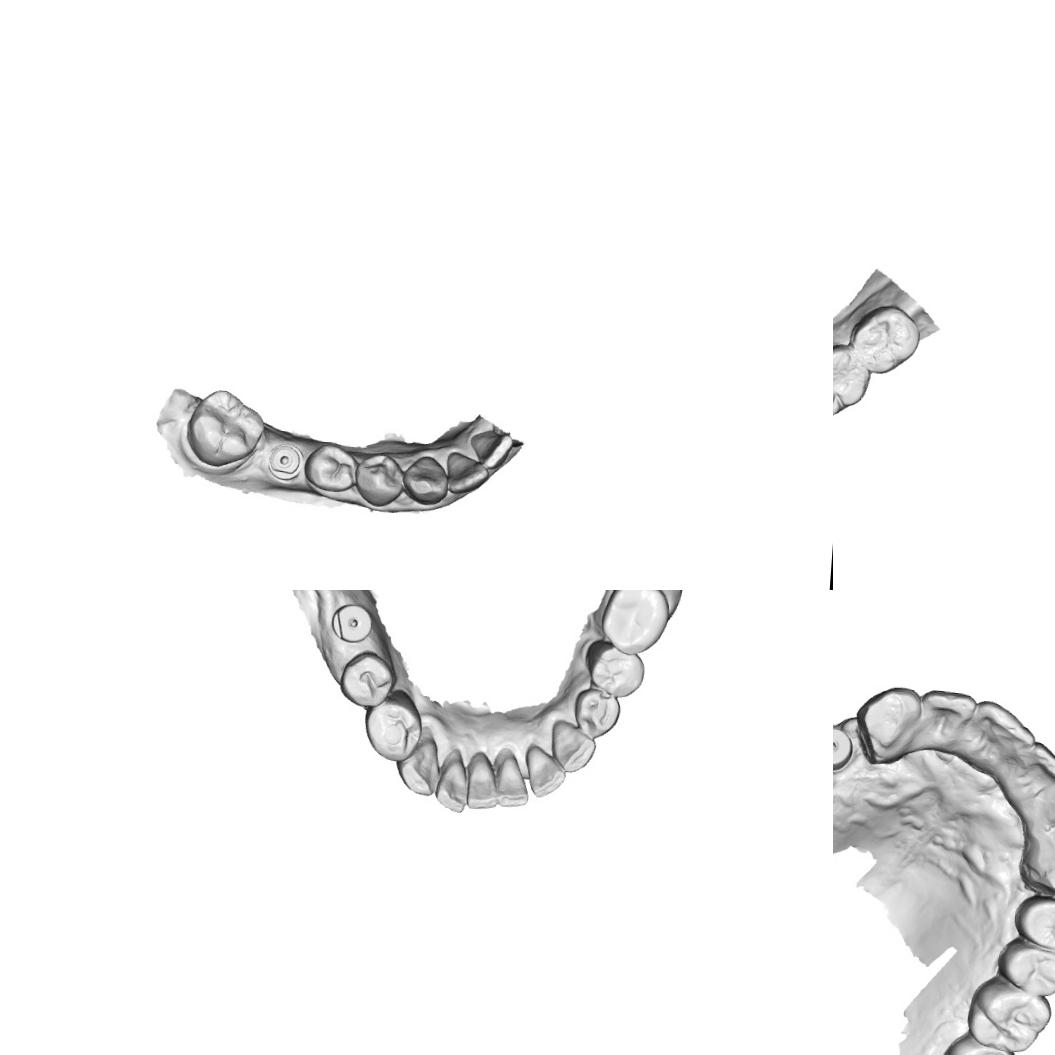canine: (855, 682, 926, 770), (392, 734, 442, 798), (399, 453, 450, 507), (548, 720, 596, 776), (1031, 840, 1055, 904)
implant: (327, 594, 380, 646), (264, 441, 304, 481), (833, 724, 852, 766)
incisor: (914, 686, 976, 766), (969, 698, 1038, 767), (522, 744, 568, 800), (1022, 739, 1055, 809), (442, 449, 491, 496), (464, 429, 514, 472), (464, 754, 501, 812), (434, 754, 469, 814), (494, 753, 532, 808)
molar: (184, 386, 267, 470), (966, 976, 1054, 1052), (847, 302, 923, 374), (596, 590, 673, 658), (833, 340, 876, 421), (938, 1033, 1020, 1055)
premolar: (360, 691, 426, 764), (335, 648, 400, 712), (581, 638, 646, 700), (999, 939, 1055, 1000), (353, 450, 405, 509), (568, 686, 623, 741), (302, 440, 360, 492), (1011, 893, 1055, 955)
